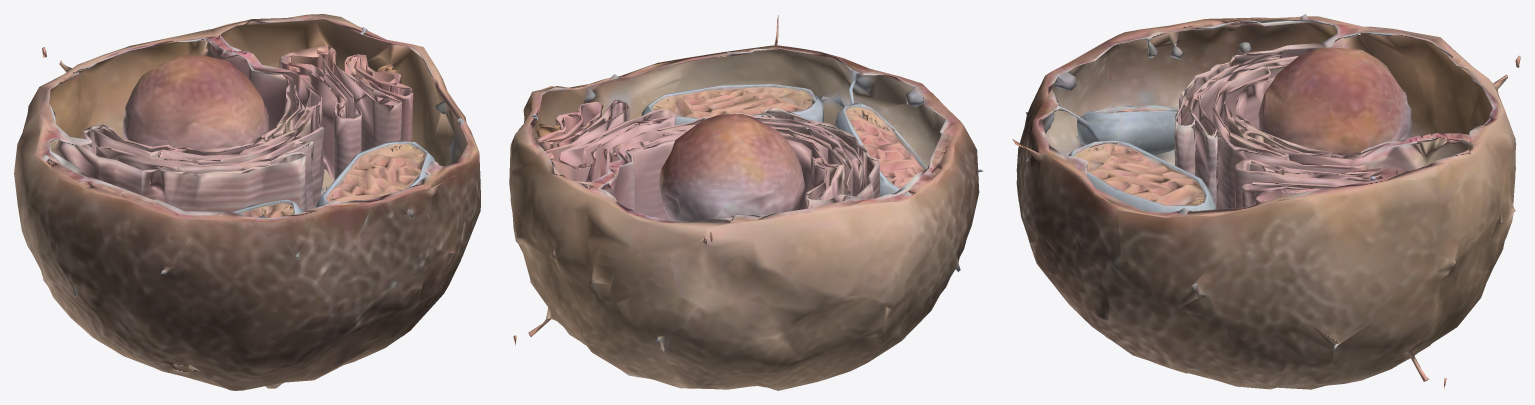
The model's file is celula.glb.
3 renders of one model, left to right at view 1: azimuth 30°, elevation 25°; view 2: azimuth 150°, elevation 25°; view 3: azimuth 270°, elevation 25°, orthographic. The views are drawn at different scales.
Parts seen in each view (by area): view 1: geometry_0; view 2: geometry_0; view 3: geometry_0.
Boxes of the visible parts, bbox=[...] form: geometry_0: bbox=[14, 14, 480, 390]; geometry_0: bbox=[509, 15, 983, 390]; geometry_0: bbox=[1012, 14, 1520, 389].
Bounding box in the file's own units: 0.999 × 0.6213 × 1.
1 material, 1 textured.
